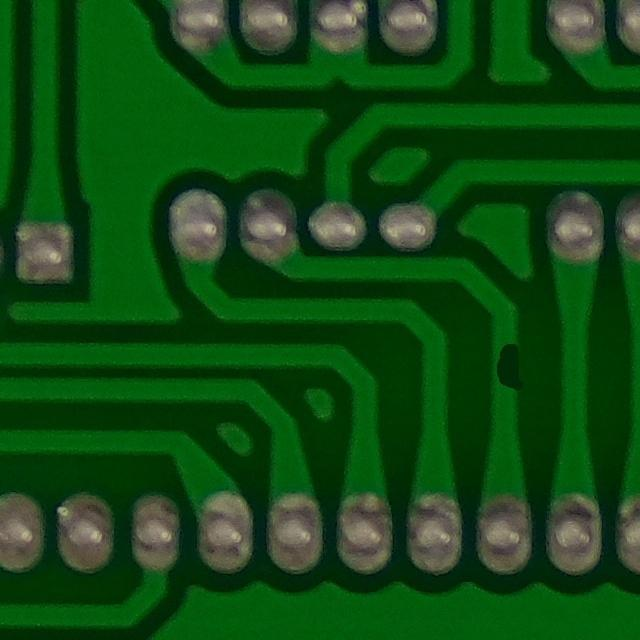mouse_bite: (481, 329, 537, 401)
